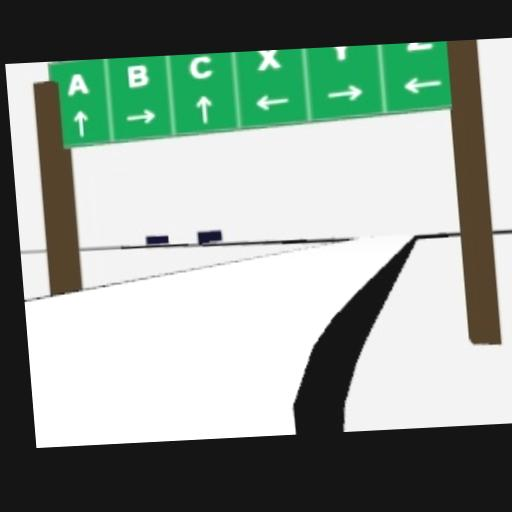A: (65, 72, 90, 96)
B: (126, 62, 149, 88)
C: (187, 53, 214, 79)
Left: (401, 75, 442, 95), (254, 94, 289, 111)
Right: (326, 83, 362, 103), (124, 107, 158, 125)
Straight: (194, 94, 214, 123), (73, 110, 89, 137)
X: (256, 50, 280, 71)
Y: (327, 46, 354, 61)
Z: (406, 42, 435, 51)
